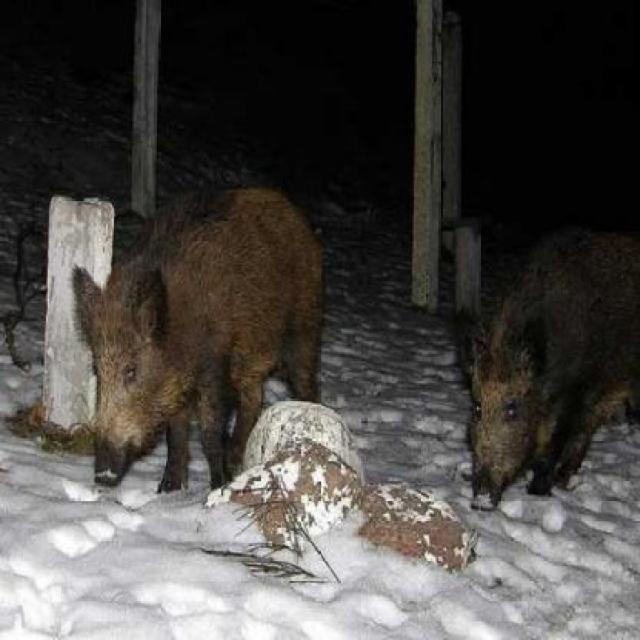pig: (29, 183, 360, 524), (414, 204, 638, 496)
